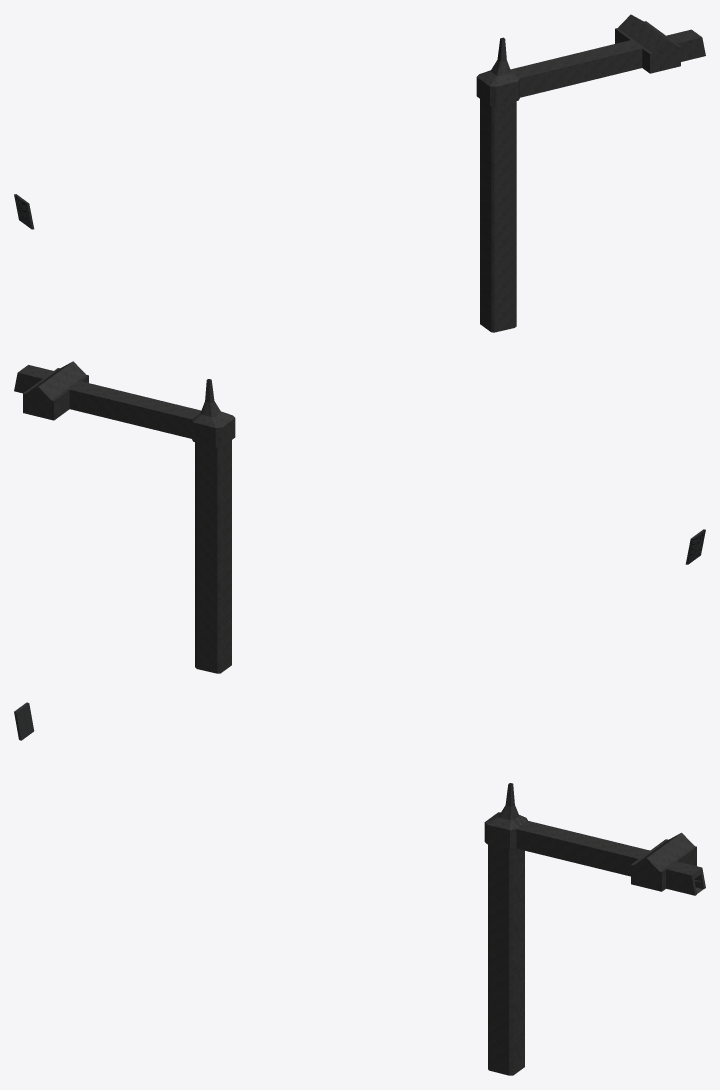
File: APME FACILITY2.fbx
3 renders of one model, top to bottom at view 1: azimuth 30°, elevation 25°; view 2: azimuth 150°, elevation 25°; view 3: azimuth 330°, elevation 25°, orthographic.
Visible parts, largest first — view 1: Cube.002; view 2: Cube.002; view 3: Cube.002.
Boxes of the visible parts, box(x1,y1,x2,y2) form: Cube.002: box(476, 14, 705, 332); Cube.002: box(14, 361, 235, 673); Cube.002: box(484, 783, 705, 1075).
Bounding box in the file's own units: 552130 × 221336 × 49282.
3 materials, 3 textured.
